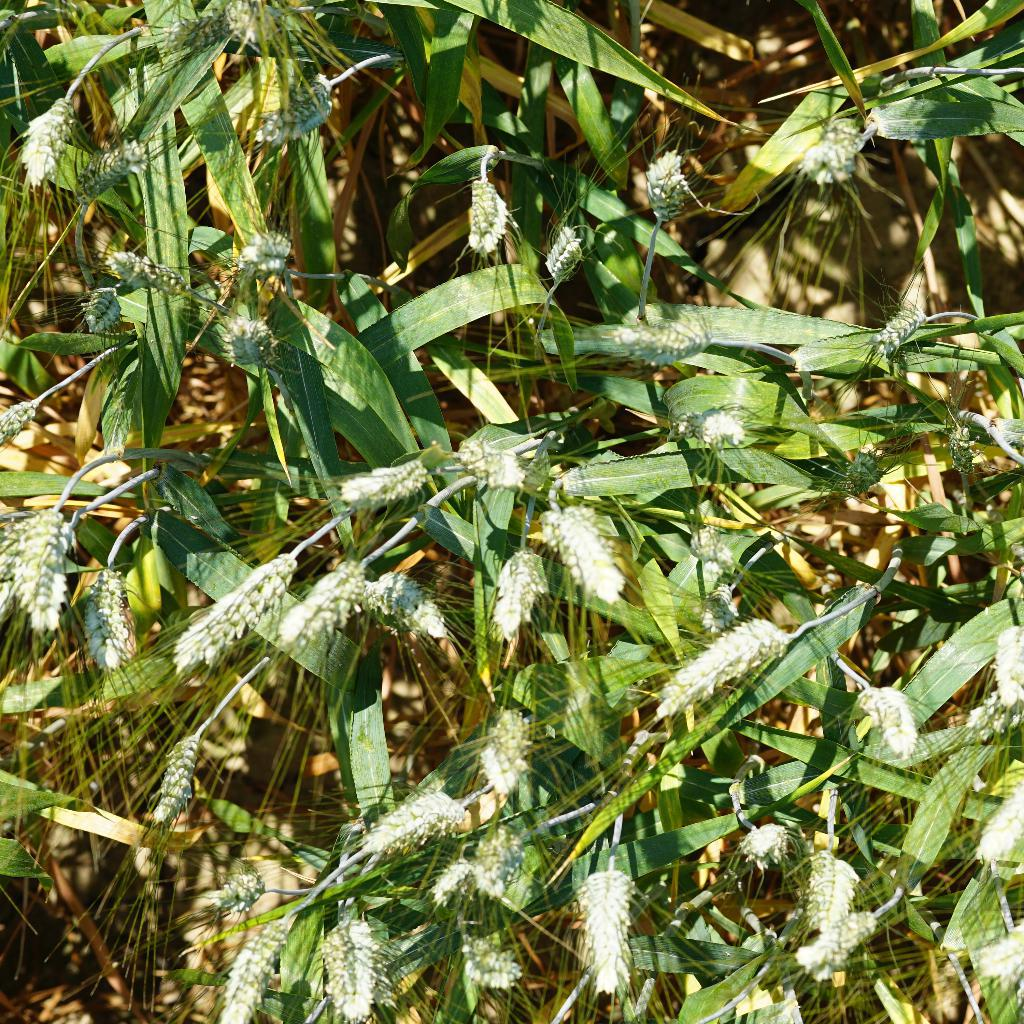0-0: (645, 602, 798, 732), (169, 539, 301, 672), (563, 854, 651, 994), (256, 552, 372, 653), (534, 501, 631, 610), (4, 500, 74, 645), (219, 903, 294, 1024), (150, 722, 224, 838), (774, 897, 882, 976), (313, 905, 382, 1024), (475, 537, 546, 651), (74, 555, 141, 675), (788, 837, 877, 927), (956, 755, 1024, 871), (340, 789, 471, 848), (11, 81, 78, 194), (458, 707, 533, 803), (367, 574, 453, 656), (249, 73, 339, 150), (858, 673, 931, 765), (64, 130, 142, 208), (325, 451, 429, 509), (456, 167, 518, 264), (630, 152, 698, 238), (852, 287, 935, 357), (966, 898, 1024, 998), (601, 313, 714, 362), (455, 430, 531, 499), (147, 0, 231, 62), (675, 395, 757, 458), (467, 818, 530, 899), (105, 245, 194, 299), (929, 402, 991, 477), (447, 933, 527, 990), (822, 437, 893, 501), (239, 224, 302, 296), (210, 310, 284, 370), (957, 688, 1024, 750), (796, 124, 870, 178), (675, 516, 746, 572), (725, 807, 789, 867), (533, 224, 590, 291), (982, 623, 1024, 707), (221, 0, 293, 47), (200, 867, 269, 914), (73, 275, 126, 331), (0, 392, 60, 437), (423, 860, 475, 905)
